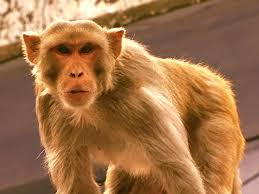monkey: (4, 10, 252, 184)
